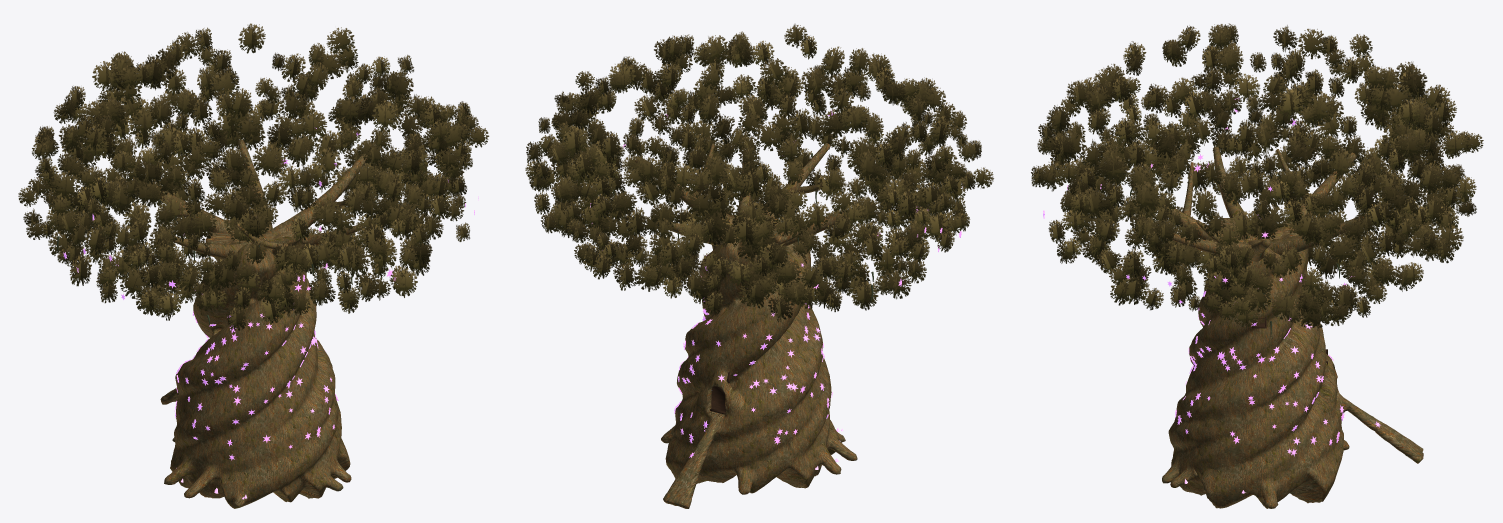
File: old_oak.gltf
3 renders of one model, left to right at view 1: azimuth 30°, elevation 25°; view 2: azimuth 150°, elevation 25°; view 3: azimuth 270°, elevation 25°, orthographic. The views are drawn at different scales.
Parts seen in each view (by area): view 1: FoliageCards, Trunk, Branches, Flowers; view 2: FoliageCards, Trunk, Branches, Flowers; view 3: FoliageCards, Trunk, Branches, Flowers.
Boxes of the visible parts, <box> form: FoliageCards: <box>18,23,489,330</box>; Trunk: <box>160,219,351,508</box>; Branches: <box>148,139,368,260</box>; Flowers: <box>63,127,478,460</box>; FoliageCards: <box>525,24,993,322</box>; Trunk: <box>661,214,857,508</box>; Branches: <box>635,143,874,254</box>; Flowers: <box>590,110,962,457</box>; FoliageCards: <box>1031,23,1483,330</box>; Trunk: <box>1162,218,1423,508</box>; Branches: <box>1130,146,1366,262</box>; Flowers: <box>1043,98,1380,456</box>.
Size of what is drawn, in the model's own units: 44.01 by 40.1 by 40.42.
10 materials, 4 textured.
